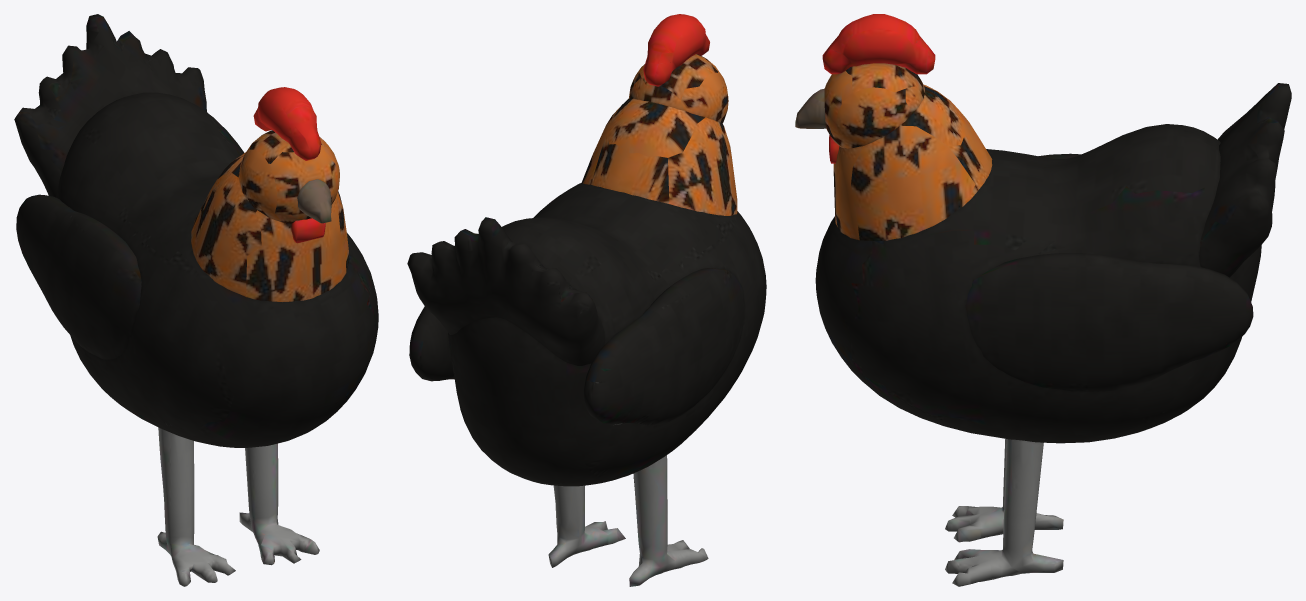
The model's file is animal_marans.glb.
3 views of the same model, side by side, from view 1: azimuth 30°, elevation 25°; view 2: azimuth 150°, elevation 25°; view 3: azimuth 270°, elevation 25° (orthographic). The views are drawn at different scales.
Visible parts, largest first — view 1: animal_marans, head, leg0, leg1; view 2: animal_marans, head, leg0, leg1; view 3: animal_marans, head, leg1, leg0.
Part boxes in pixels (left/top/right/bottom): animal_marans: left=14, top=14, right=378, bottom=447; head: left=239, top=87, right=339, bottom=243; leg0: left=157, top=427, right=235, bottom=586; leg1: left=239, top=443, right=319, bottom=565; animal_marans: left=407, top=98, right=766, bottom=486; head: left=629, top=14, right=728, bottom=123; leg0: left=629, top=455, right=708, bottom=586; leg1: left=548, top=485, right=625, bottom=567; animal_marans: left=815, top=83, right=1291, bottom=443; head: left=795, top=14, right=935, bottom=163; leg1: left=945, top=439, right=1063, bottom=586; leg0: left=945, top=438, right=1063, bottom=542.
Size of the model in its own units: 0.1382 by 0.278 by 0.2331.
Materials: 1 (1 with a texture image).
